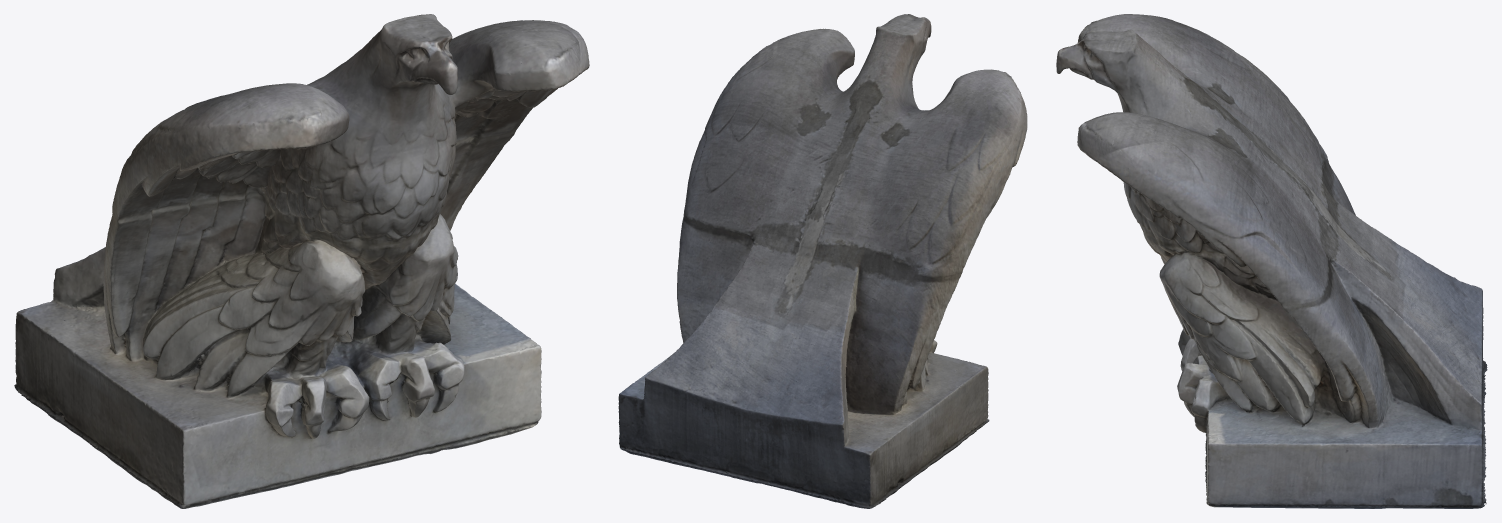
The model's file is eagle.glb.
3 views of the same model, side by side, from view 1: azimuth 30°, elevation 25°; view 2: azimuth 150°, elevation 25°; view 3: azimuth 270°, elevation 25° (orthographic). The views are drawn at different scales.
Parts seen in each view (by area): view 1: Object_2, Object_3; view 2: Object_2, Object_3; view 3: Object_2, Object_3.
Part boxes in pixels (left/top/right/bottom): Object_2: left=14, top=14, right=589, bottom=508; Object_3: left=14, top=164, right=541, bottom=506; Object_2: left=619, top=14, right=1027, bottom=508; Object_3: left=618, top=254, right=988, bottom=508; Object_2: left=1056, top=14, right=1486, bottom=508; Object_3: left=1160, top=186, right=1487, bottom=508.
Bounding box in the file's own units: 20.62 × 23.47 × 22.85.
1 material, 1 textured.
